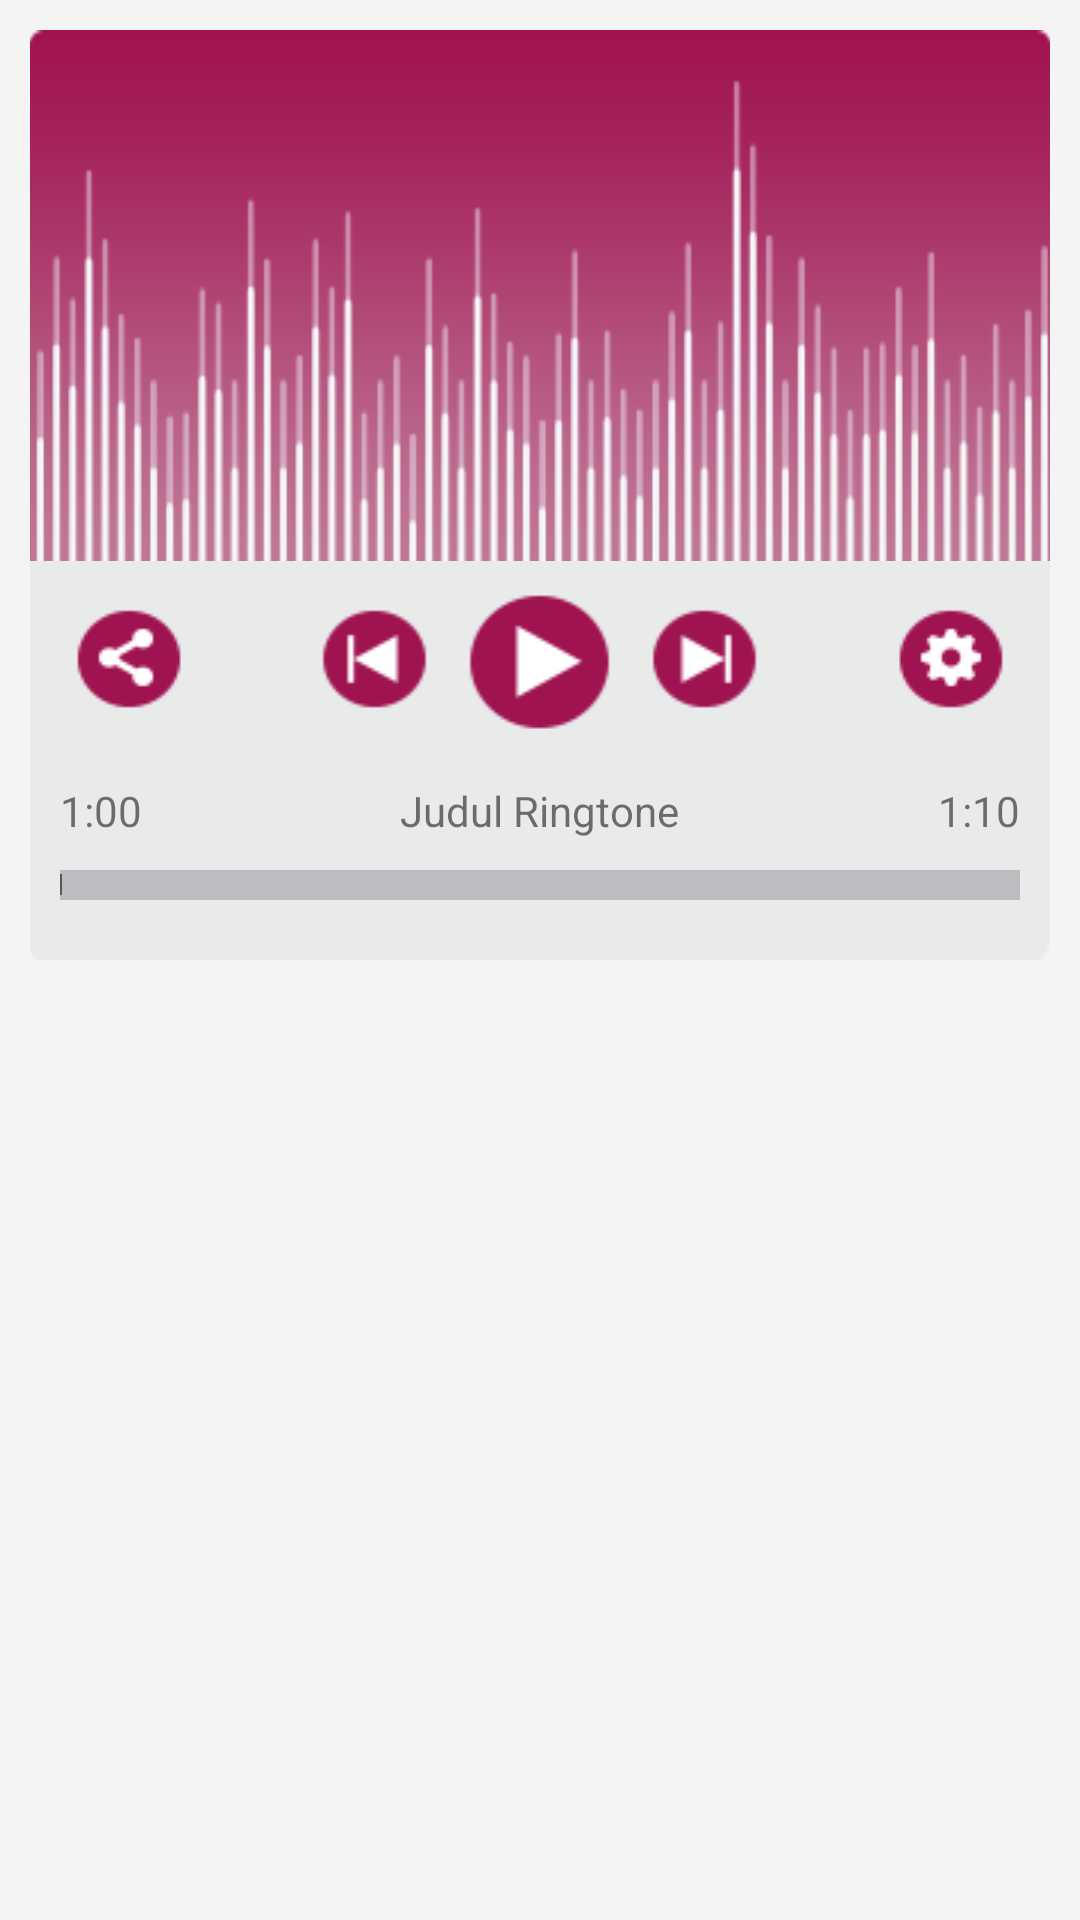

Icon click points for this 1080x1920 phone screenshot, format [x,y]:
next: [704,659]
play: [539,662]
prev: [374,659]
set: [951,659]
share: [129,659]
